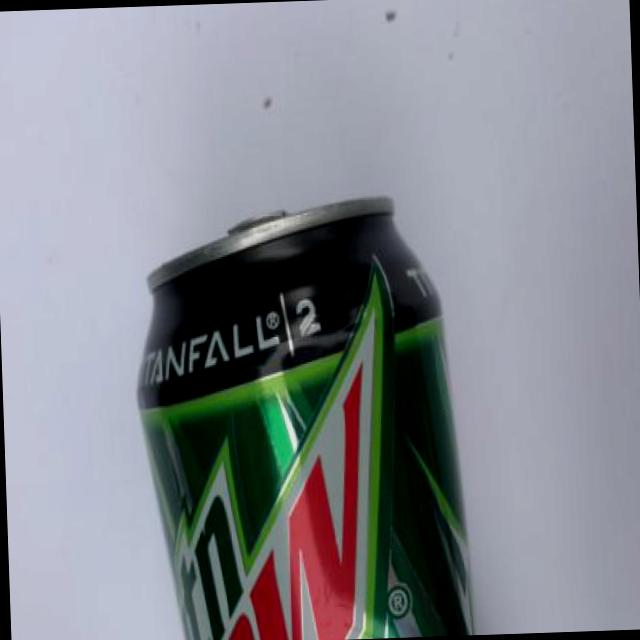kim_loai: (138, 200, 473, 640)
